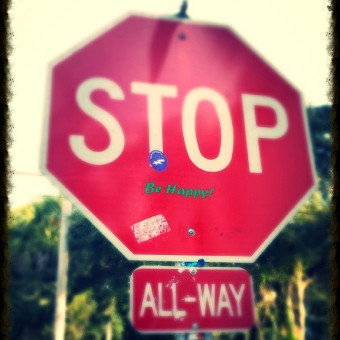SS: (45, 15, 318, 269)
